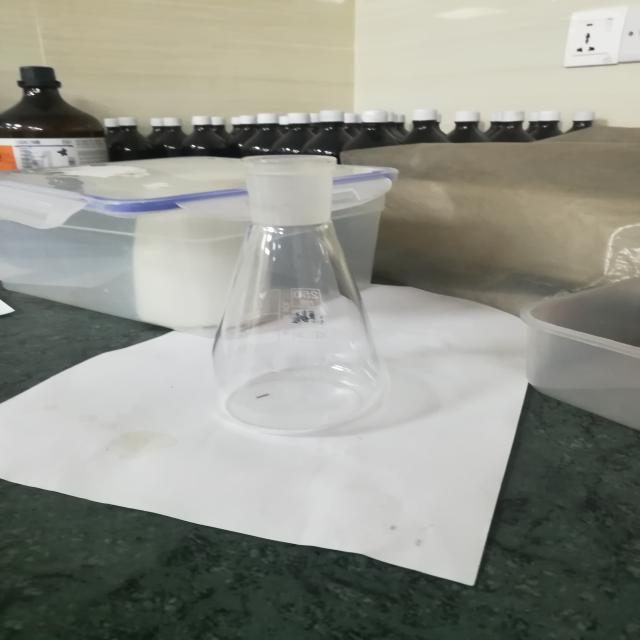Conical_Flask: (179, 124, 435, 447)
